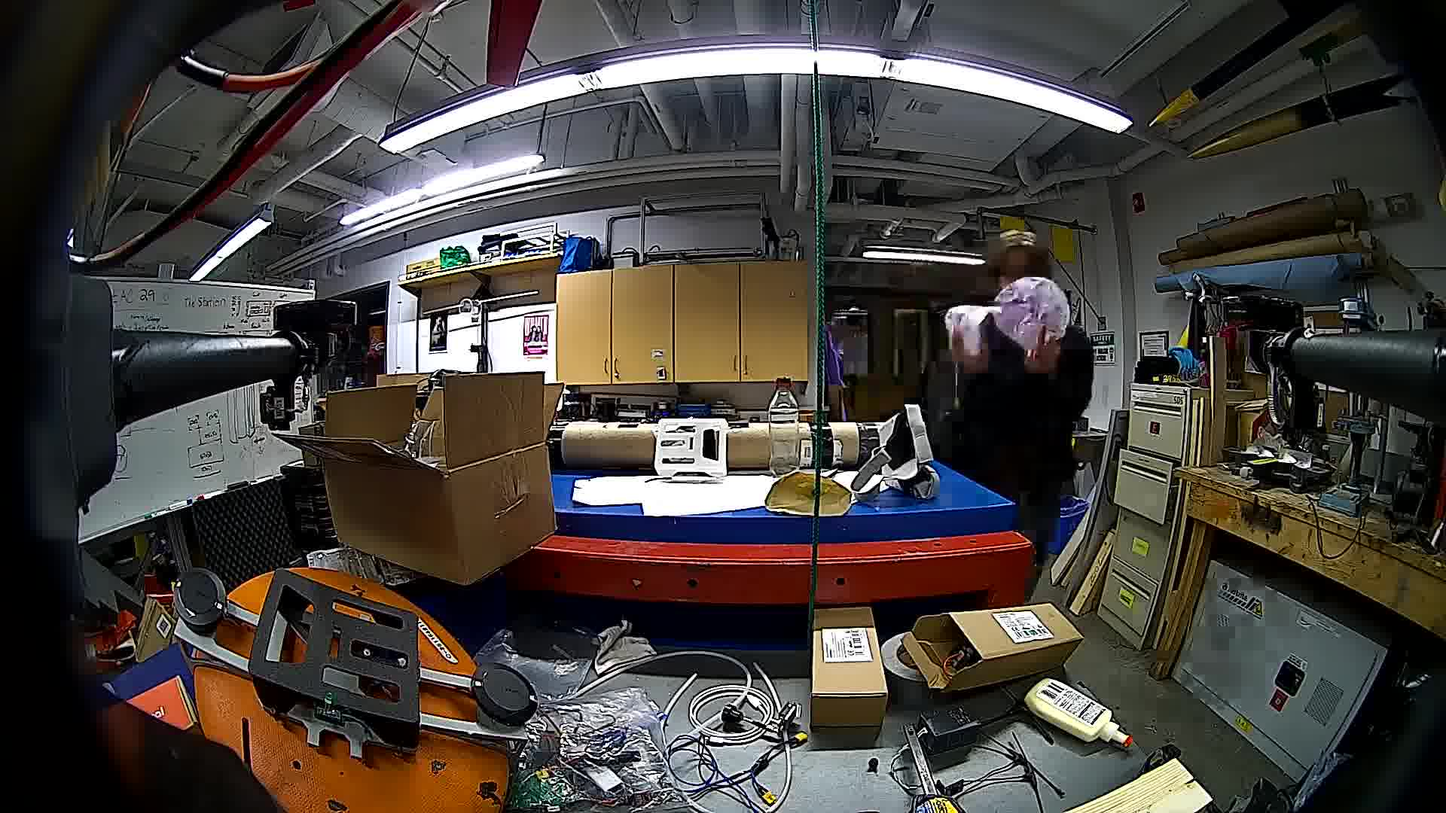Target: (993, 275, 1072, 349)
